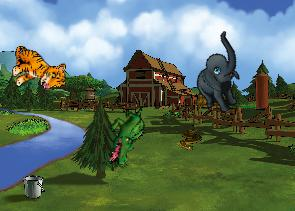crocodile: (107, 105, 145, 166)
elephant: (178, 30, 262, 119)
tiger: (10, 44, 66, 91)
